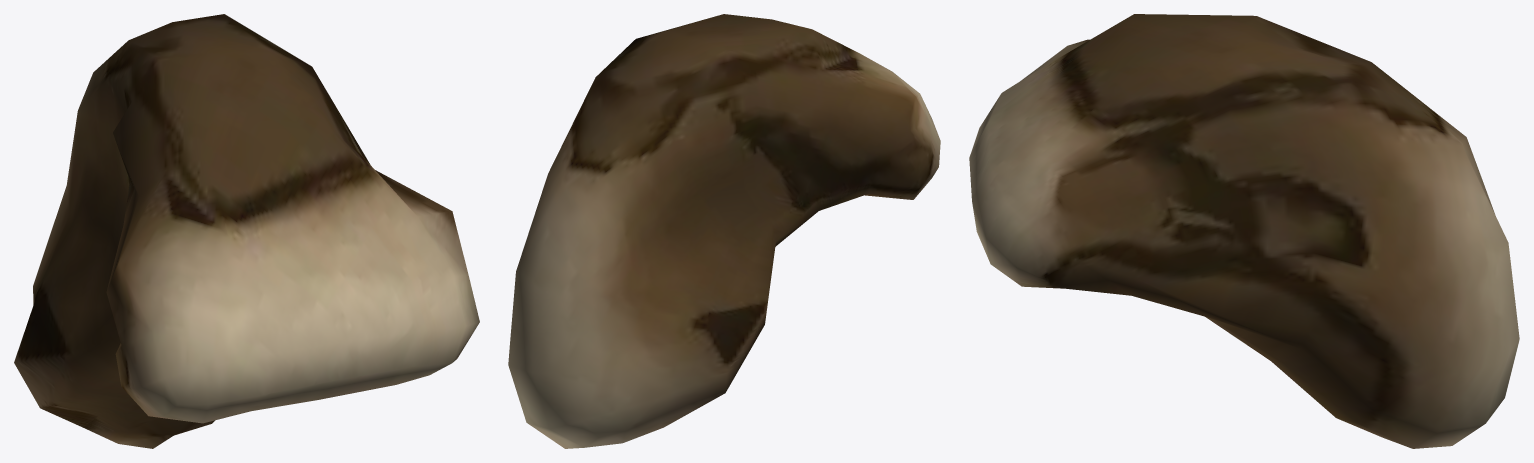
The model's file is Distal_Carpal_III.glb.
3 views of the same model, side by side, from view 1: azimuth 30°, elevation 25°; view 2: azimuth 150°, elevation 25°; view 3: azimuth 270°, elevation 25° (orthographic). The views are drawn at different scales.
Parts seen in each view (by area): view 1: Distal_Carpal_III_Right1:Distal_Carpal_III_Right; view 2: Distal_Carpal_III_Right1:Distal_Carpal_III_Right; view 3: Distal_Carpal_III_Right1:Distal_Carpal_III_Right.
Boxes of the visible parts, <box> form: Distal_Carpal_III_Right1:Distal_Carpal_III_Right: <box>14,14,479,448</box>; Distal_Carpal_III_Right1:Distal_Carpal_III_Right: <box>508,14,940,448</box>; Distal_Carpal_III_Right1:Distal_Carpal_III_Right: <box>969,14,1519,448</box>.
Size of the model in its own units: 8.74 by 10.95 by 14.05.
Materials: 1 (1 with a texture image).
